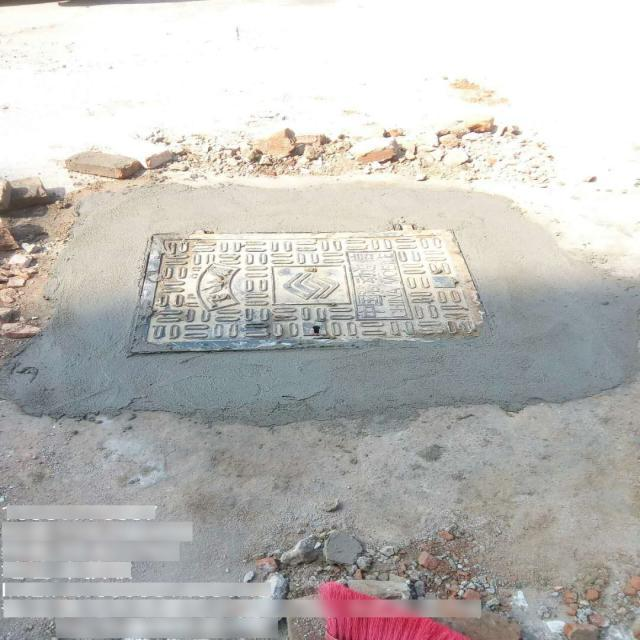Good: (128, 224, 492, 353)
